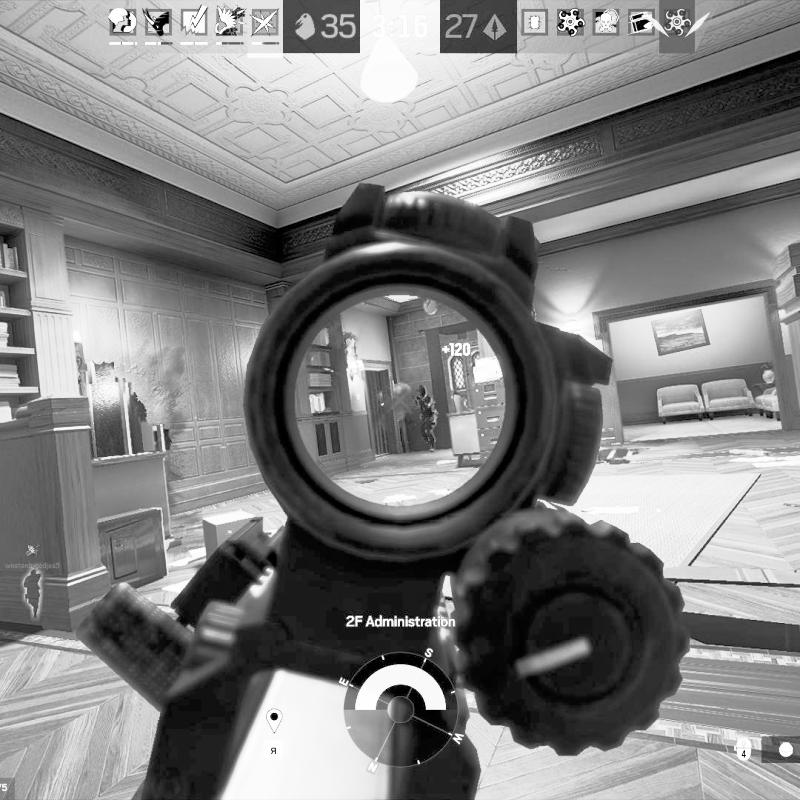Character: (412, 383, 442, 453)
Friend_label: (4, 543, 61, 570)
Head: (417, 383, 428, 397)
